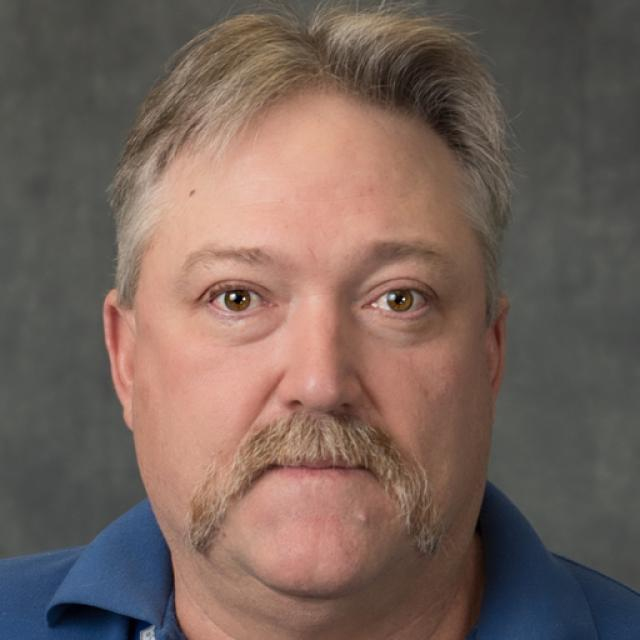Acne: (348, 508, 376, 527)
